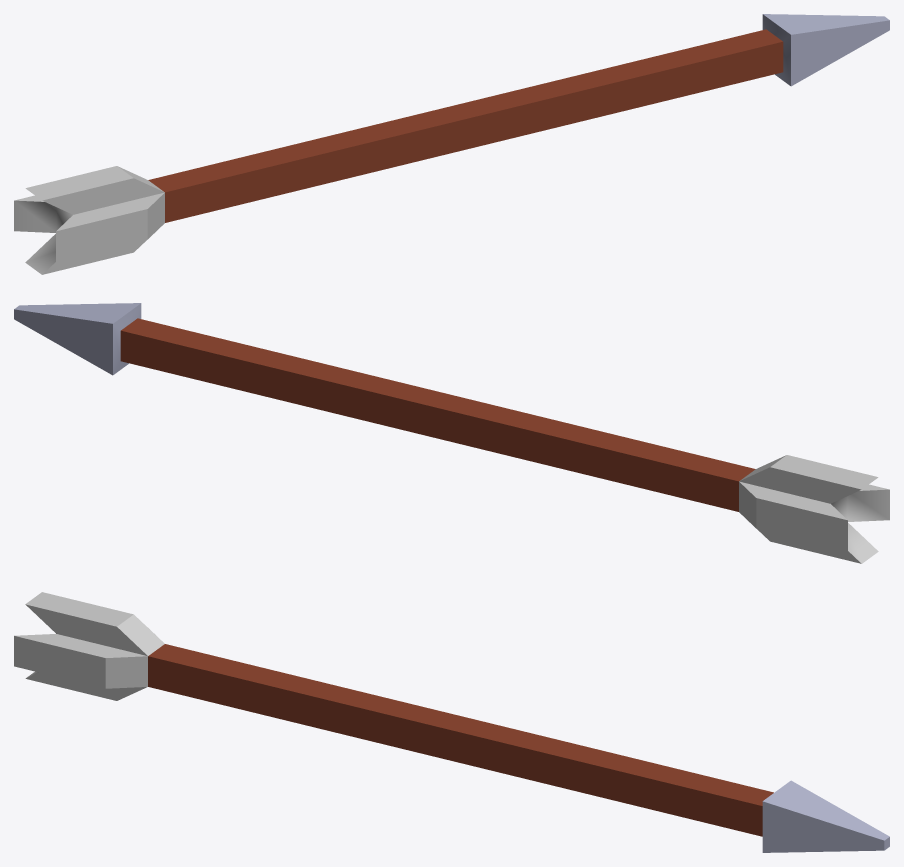
Rendered from Arrow_Proto_Prop.fbx.
3 renders of one model, top to bottom at view 1: azimuth 30°, elevation 25°; view 2: azimuth 150°, elevation 25°; view 3: azimuth 330°, elevation 25°, orthographic.
Visible parts, largest first — view 1: pCube1; view 2: pCube1; view 3: pCube1.
Part boxes in pixels (x1,y1,x2,y2): pCube1: [14, 14, 889, 274]; pCube1: [14, 303, 889, 563]; pCube1: [14, 592, 889, 852].
Bounding box in the file's own units: 6.48 × 0.5394 × 0.5526.
